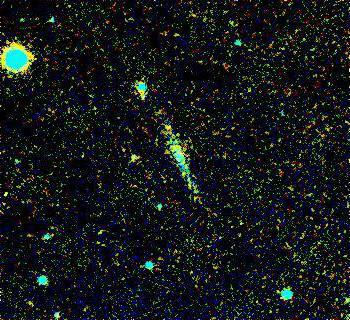star: (157, 113, 187, 143)
